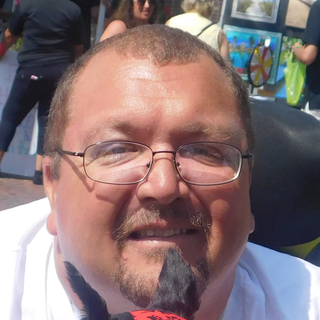eye: (93, 140, 140, 163), (182, 138, 221, 164)
